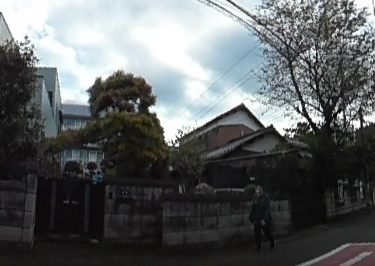person: (250, 181, 276, 251)
